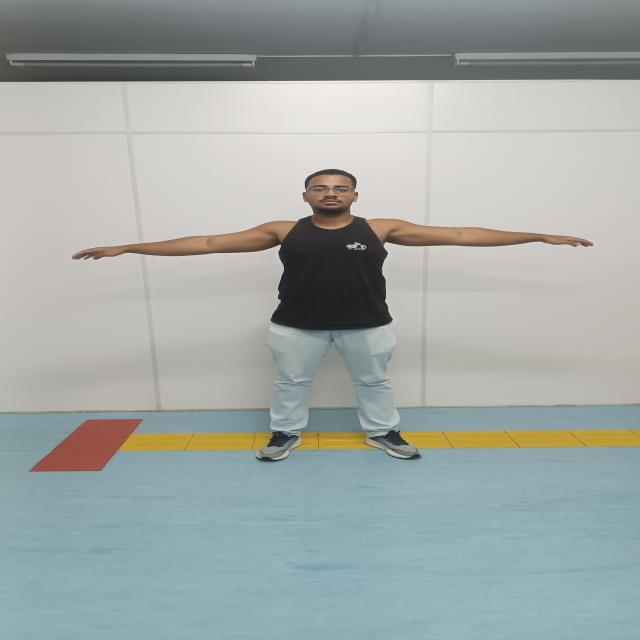takeoff: (73, 169, 594, 460)
